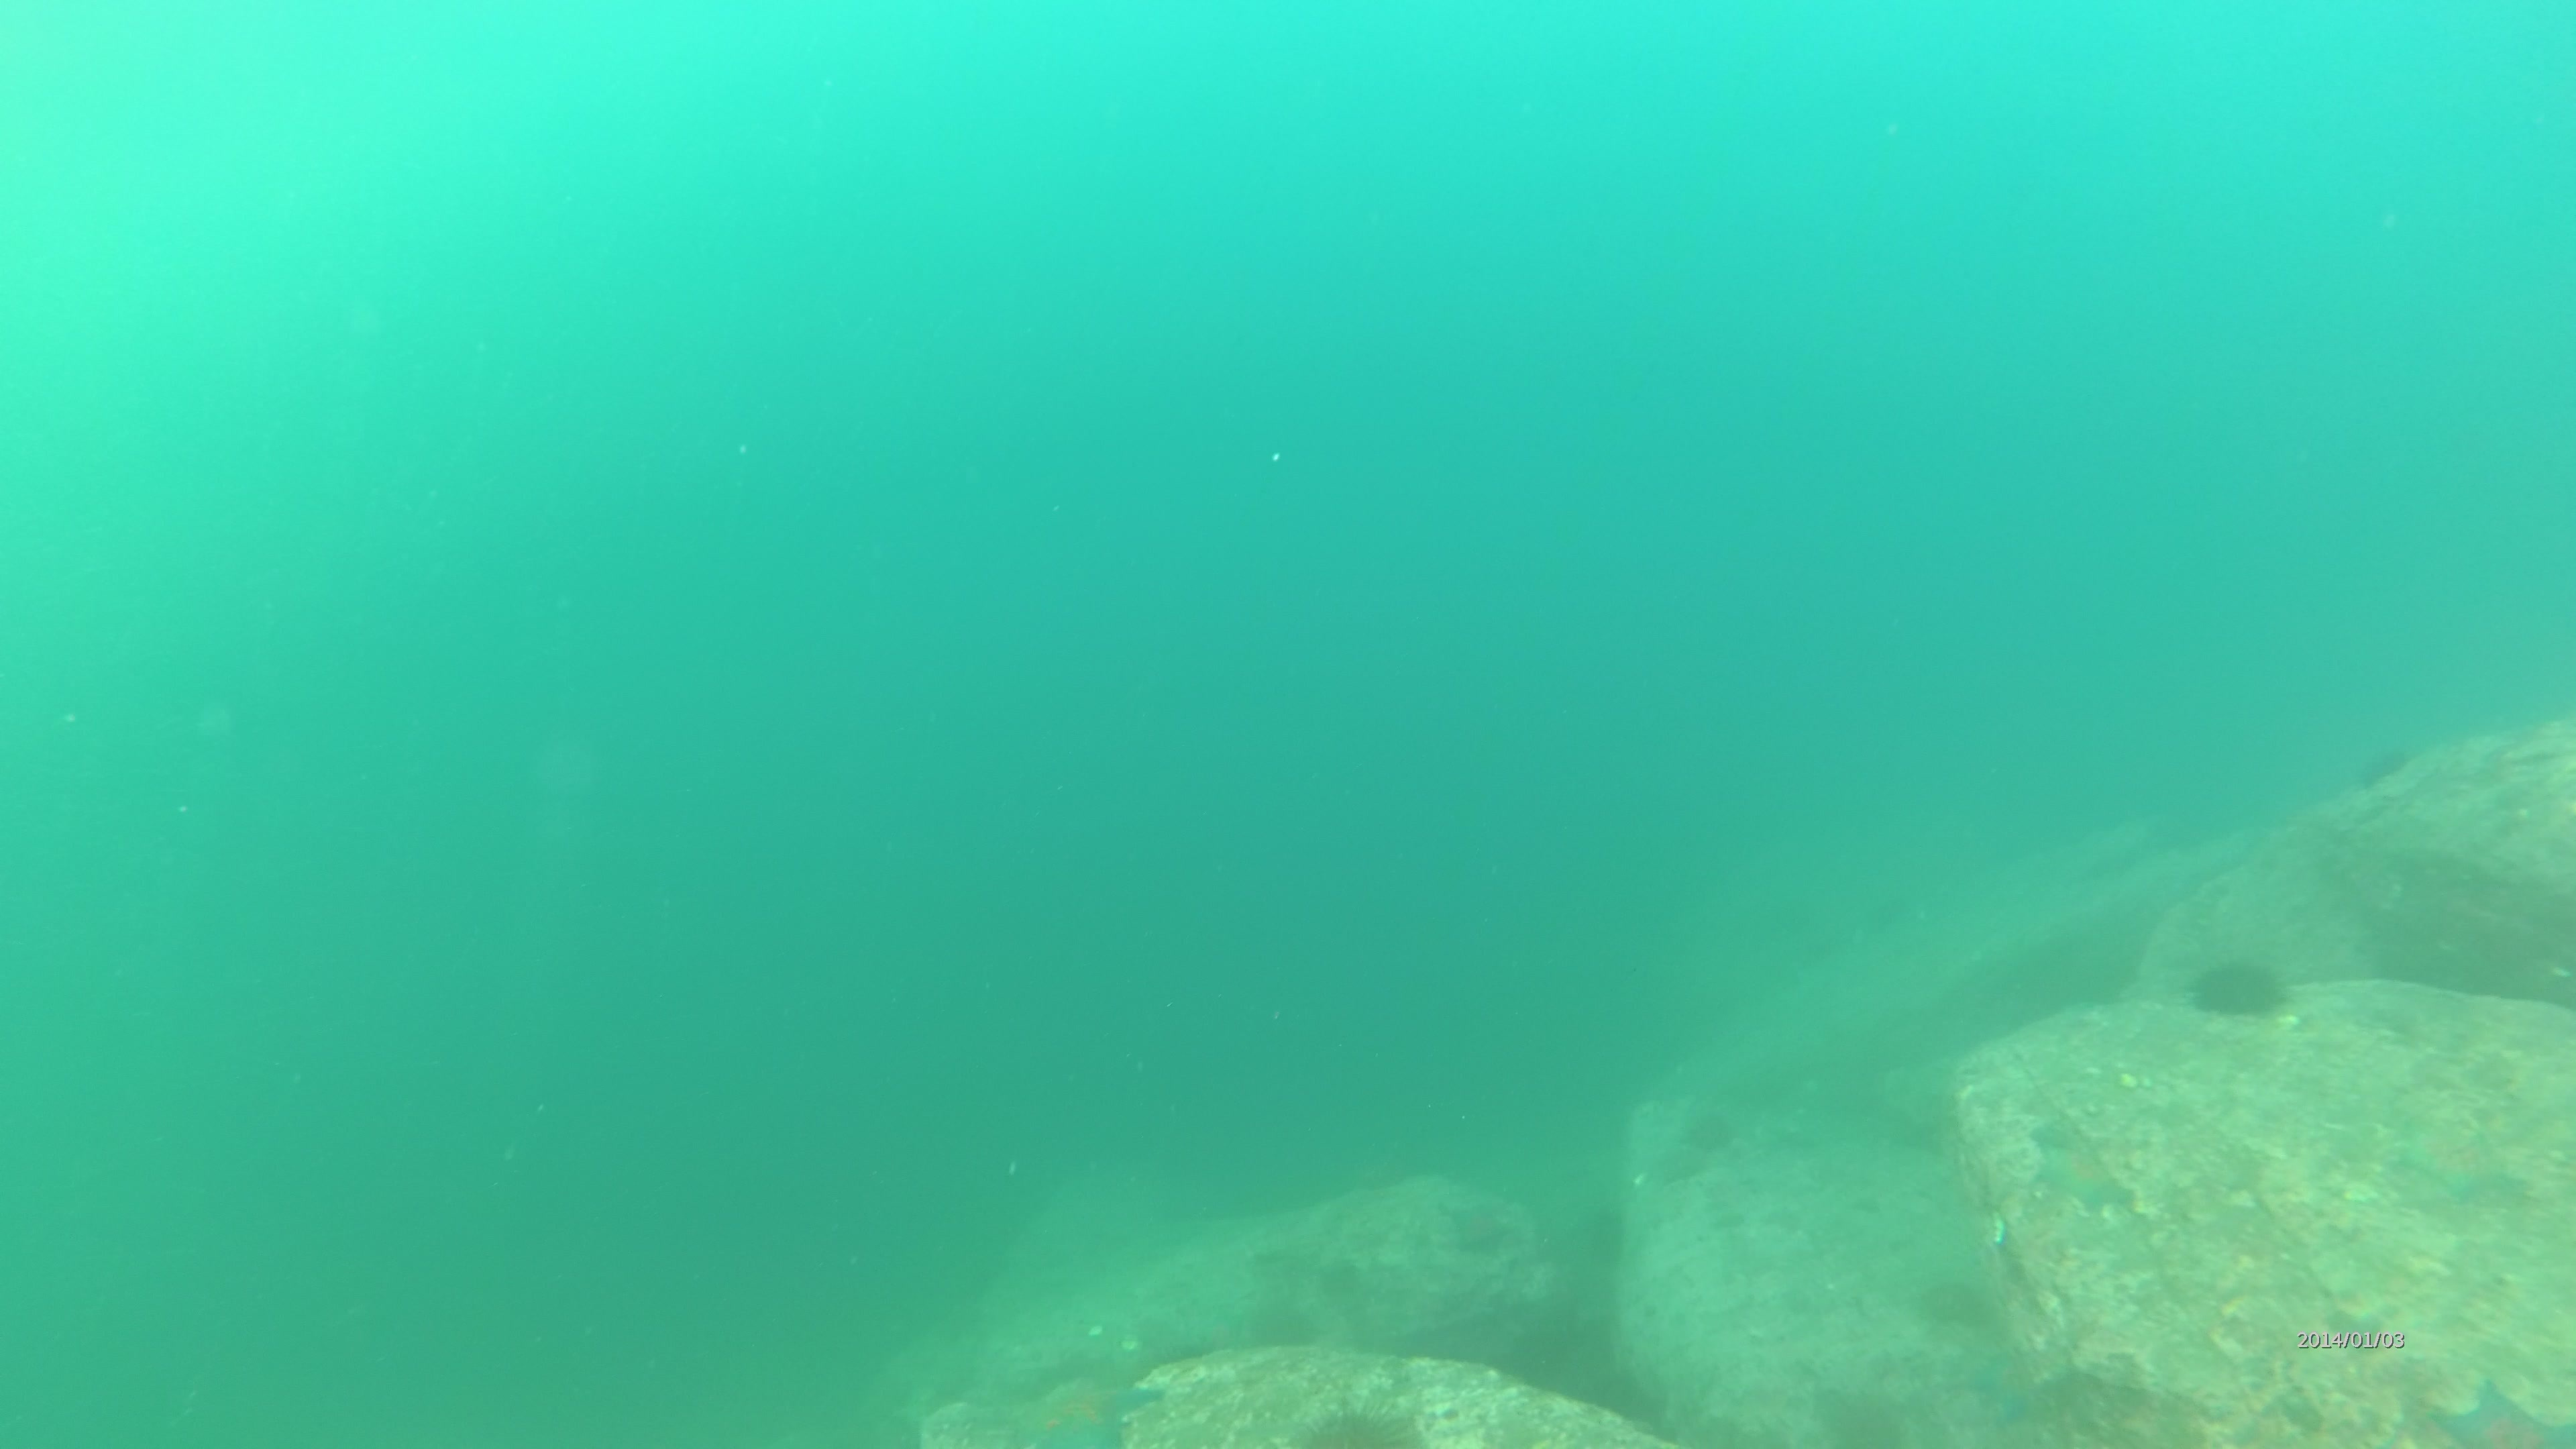echinus: (1277, 1387, 1438, 1449), (2185, 959, 2289, 1019), (1449, 1198, 1527, 1265), (1235, 1224, 1313, 1292), (1316, 1240, 1394, 1307), (1246, 1295, 1323, 1362), (1918, 1281, 2003, 1332), (1679, 1102, 1732, 1162), (1591, 1205, 1644, 1265)
starfish: (1003, 1366, 1157, 1449), (2399, 1118, 2534, 1210), (2426, 1371, 2574, 1449), (1950, 1323, 2063, 1424), (2031, 1122, 2143, 1223)
